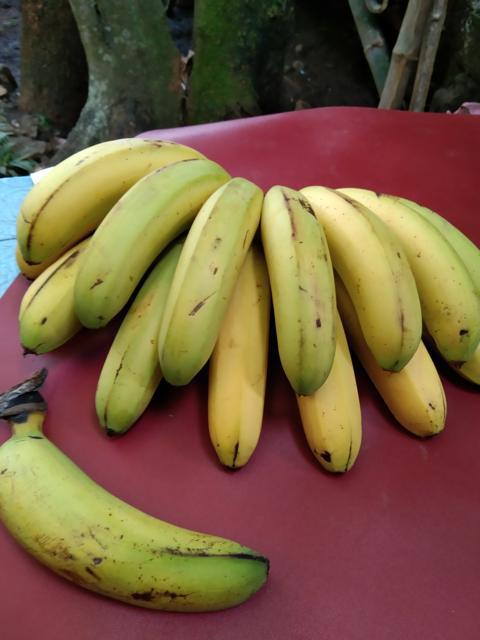freshripe: (201, 289, 282, 475)
ripe: (0, 426, 290, 629), (9, 130, 191, 249), (260, 181, 353, 404)
